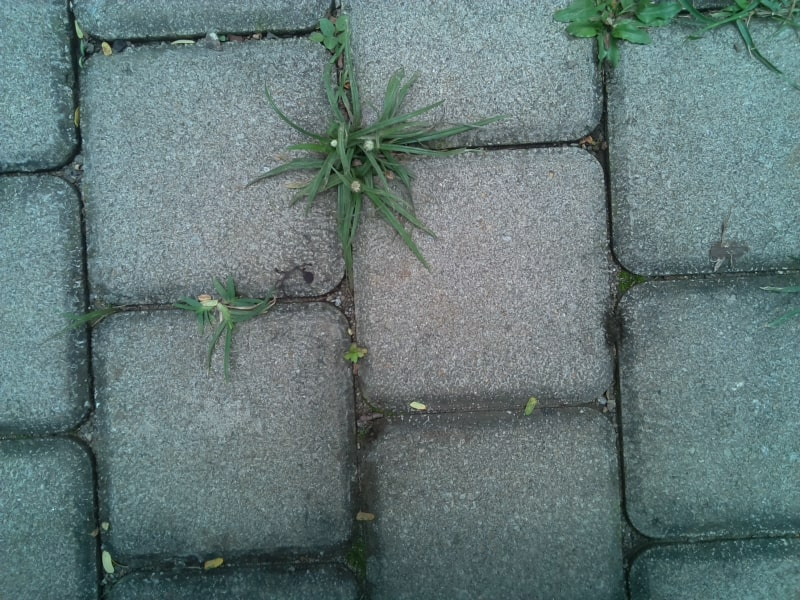Weed: (258, 53, 498, 265), (177, 274, 280, 375), (553, 1, 684, 60), (697, 1, 800, 70), (44, 301, 131, 349), (301, 11, 367, 61), (344, 342, 374, 370)
